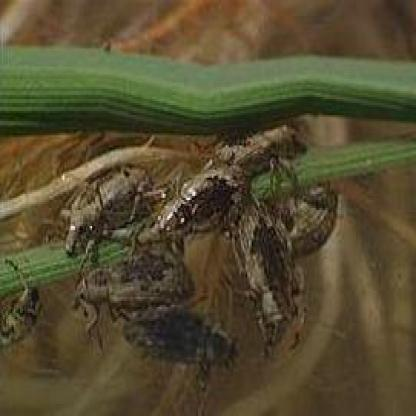rice-bug: (58, 121, 341, 365), (1, 274, 40, 348)
